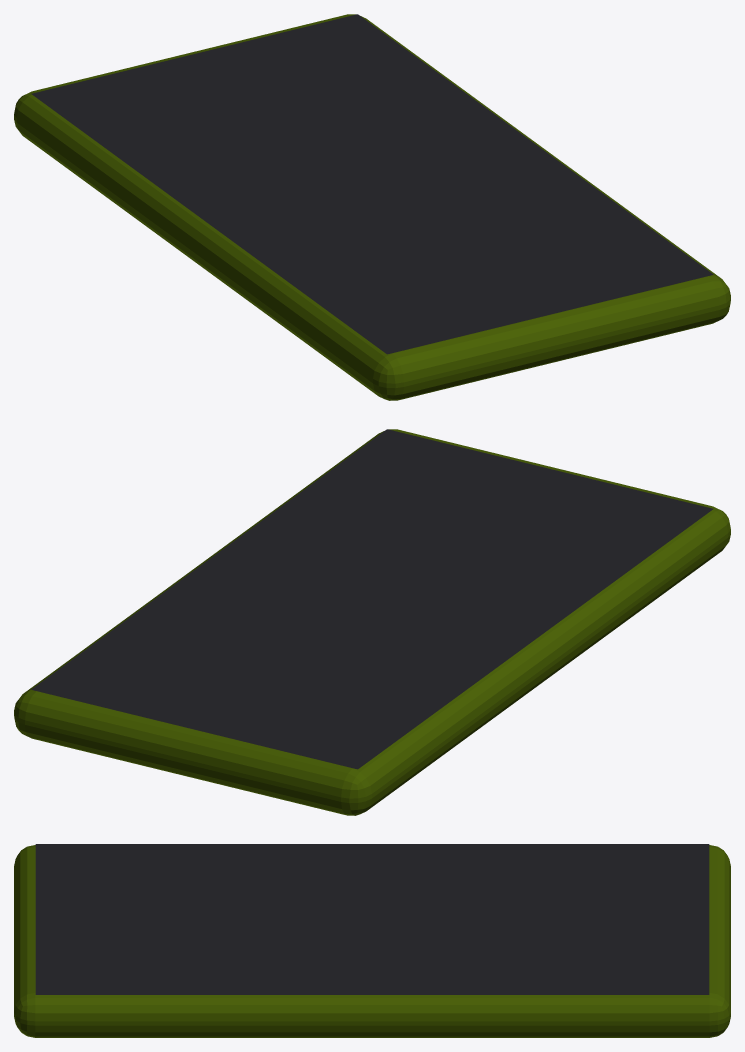
File: poco-x6-pro-5g-2024.glb
3 views of the same model, one above another, from view 1: azimuth 30°, elevation 25°; view 2: azimuth 150°, elevation 25°; view 3: azimuth 270°, elevation 25° (orthographic). The views are drawn at different scales.
Parts seen in each view (by area): view 1: Phone_Screen, Phone_Body; view 2: Phone_Screen, Phone_Body; view 3: Phone_Screen, Phone_Body.
Boxes of the visible parts, left/top/right/bottom form: Phone_Screen: left=31, top=14, right=713, bottom=354; Phone_Body: left=14, top=14, right=730, bottom=400; Phone_Screen: left=31, top=429, right=713, bottom=769; Phone_Body: left=14, top=429, right=730, bottom=815; Phone_Screen: left=35, top=844, right=709, bottom=994; Phone_Body: left=14, top=845, right=730, bottom=1037.
Bounding box in the file's own units: 0.0785 × 0.0097 × 0.145.
